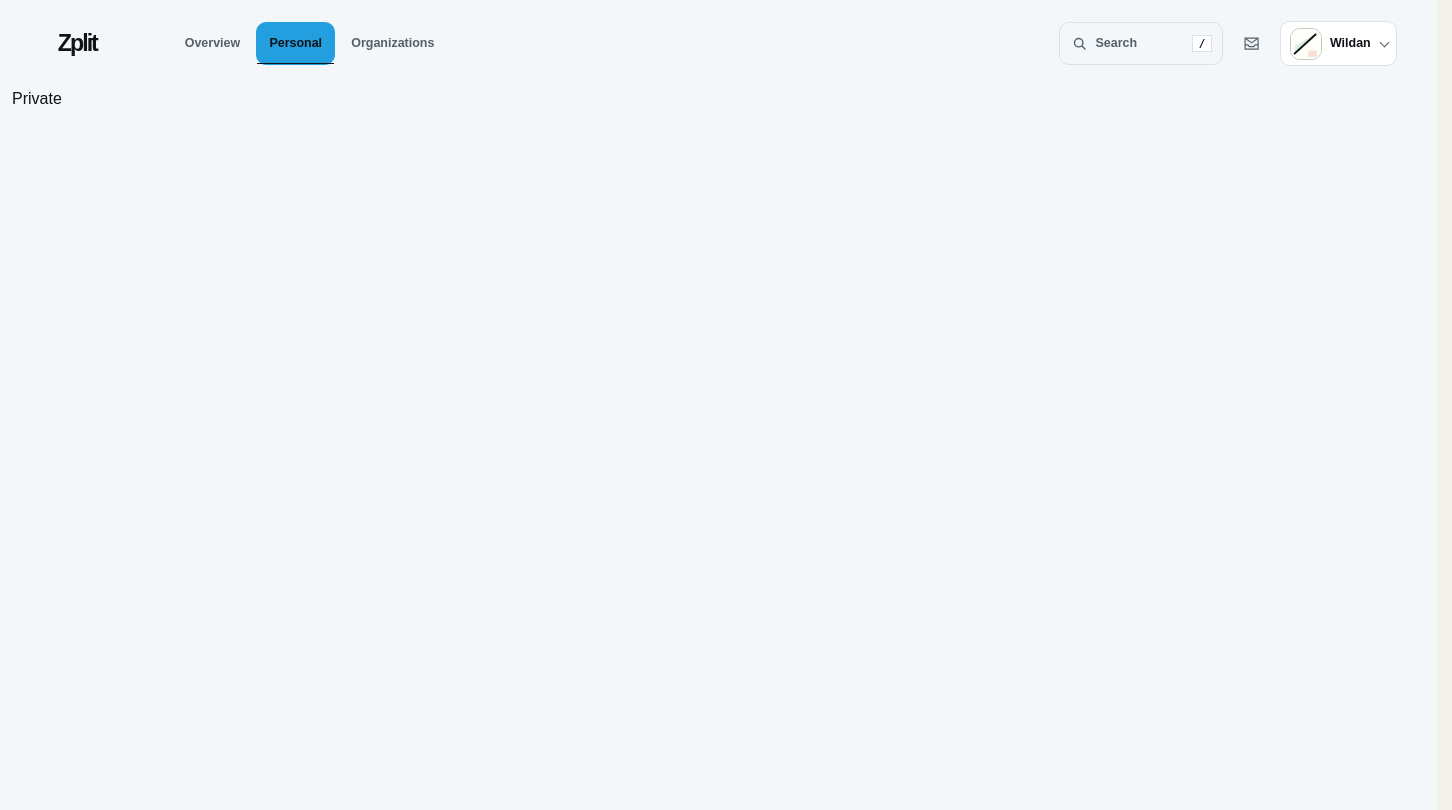
AppShell › shows only the user name in the closed account control and keeps its menu
This screenshot has width=1452, height=810.
Click the heading "Wildan" at (1338, 44), box [1280,21,1397,66]
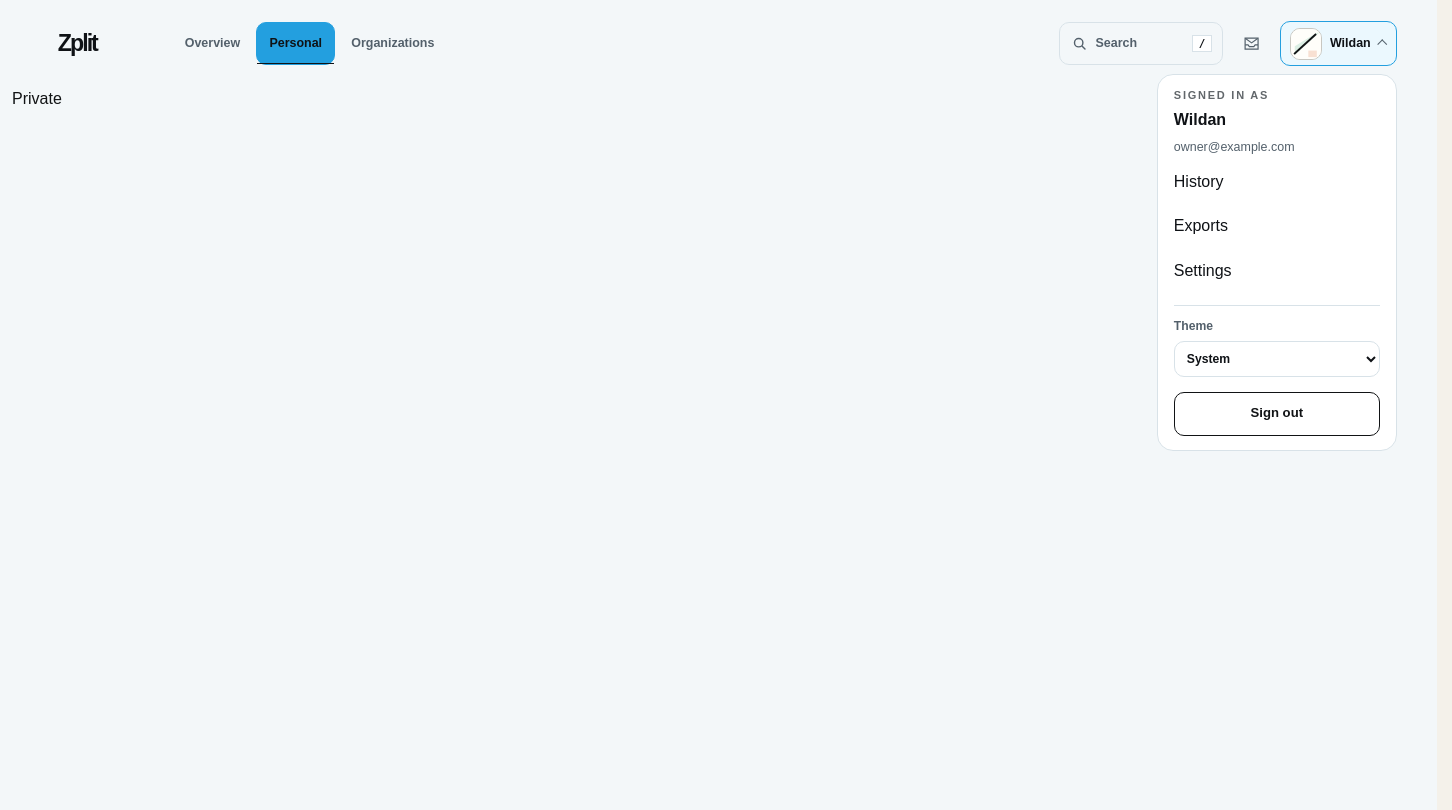
Check: the text "owner@example.com" is shown, box [1174,140,1295,154]
Check: the link "History" is shown, box [1174,173,1224,190]
Check: the link "Exports" is shown, box [1174,217,1228,234]
